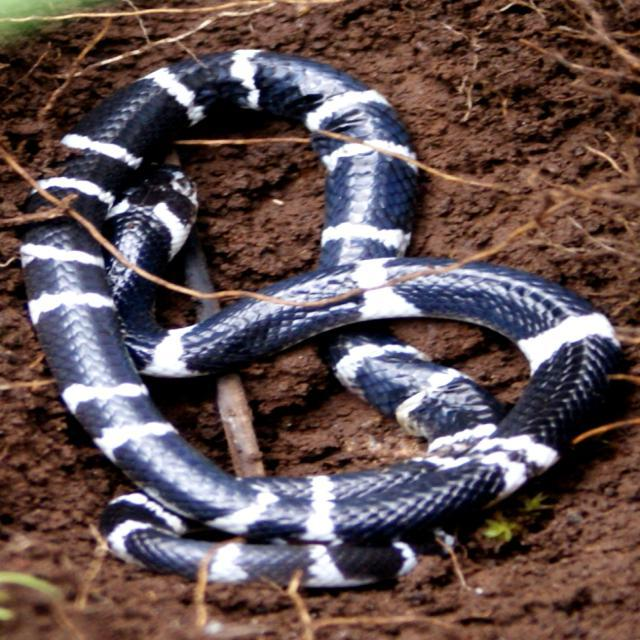Snake: (17, 48, 624, 590)
